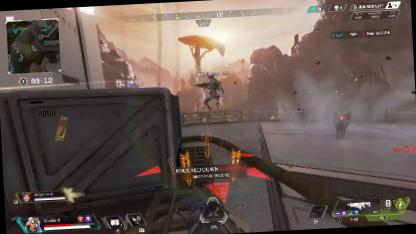Target: (199, 75, 225, 114)
